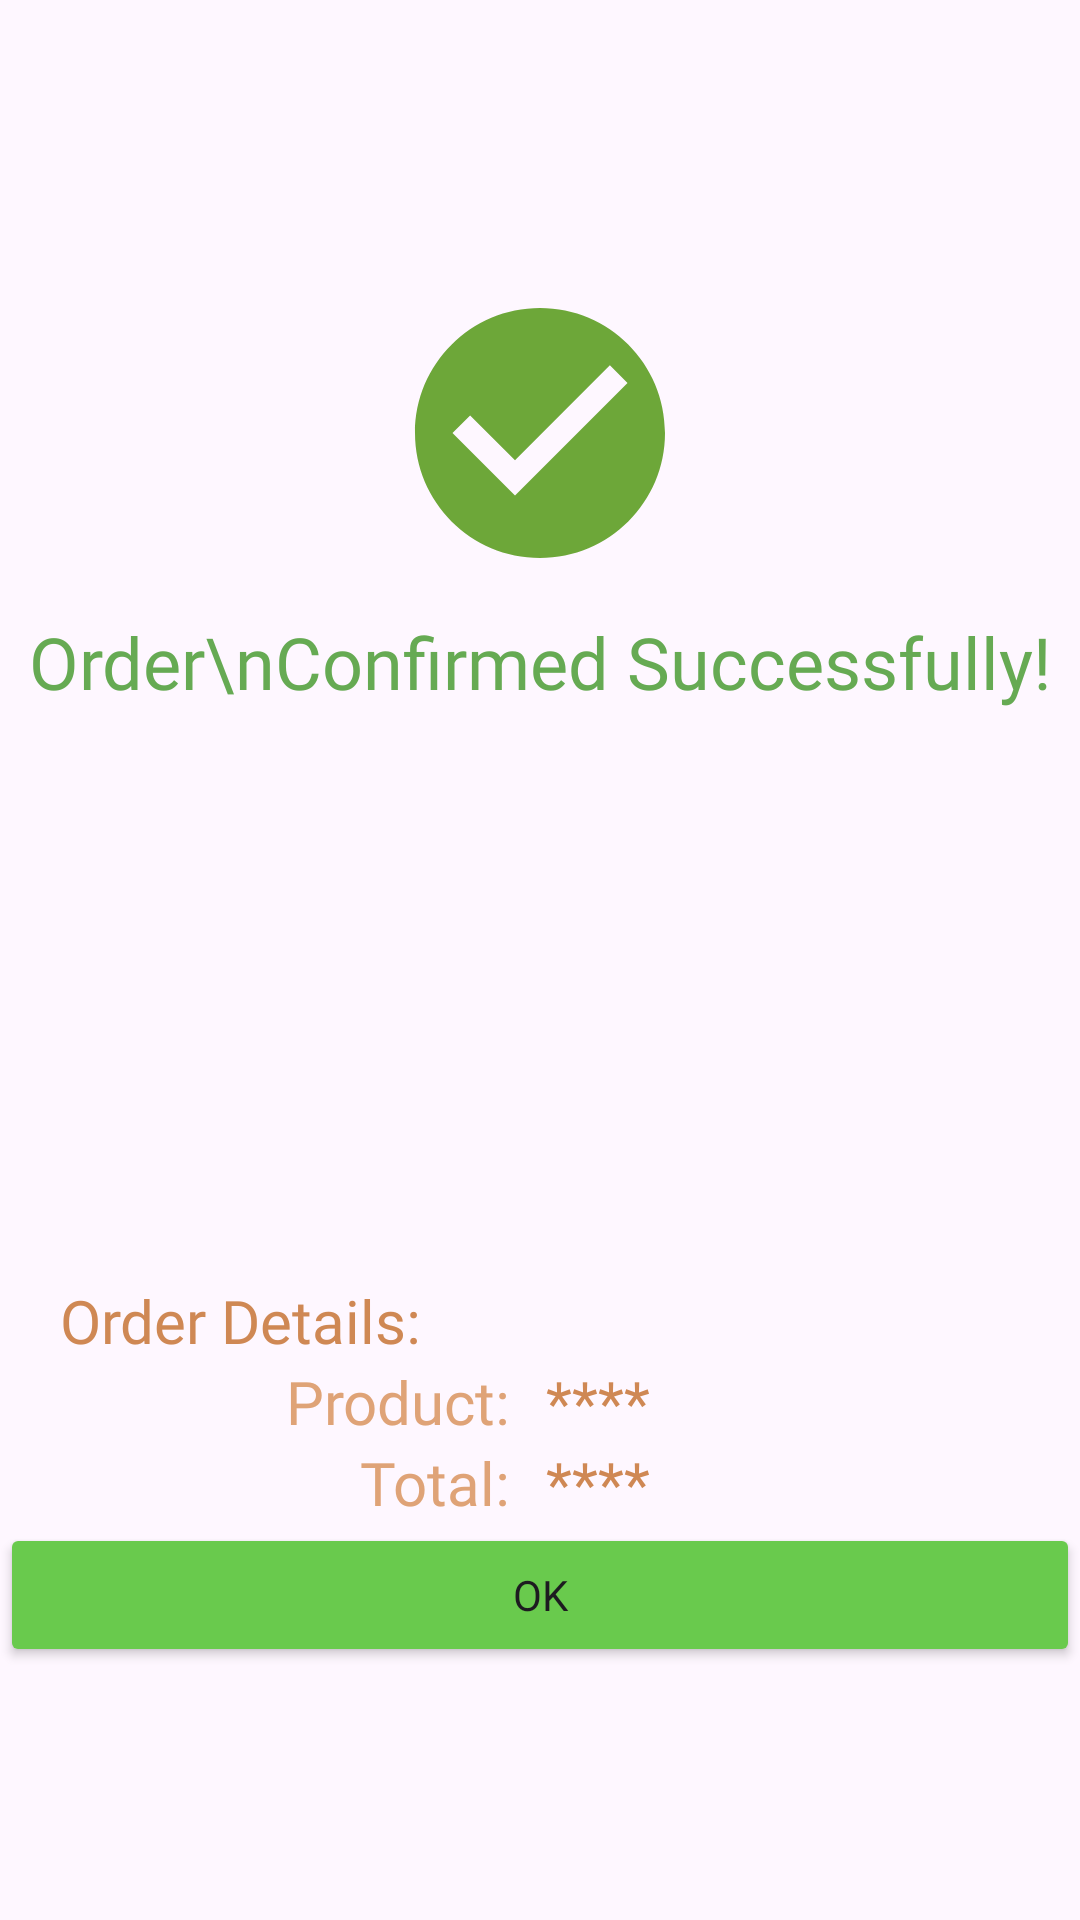

Icon bounding boxes for this 1080*1920 phone screenshot, format bbox=[x1, y1, x2, y2]:
check circle: bbox=[415, 308, 665, 558]
